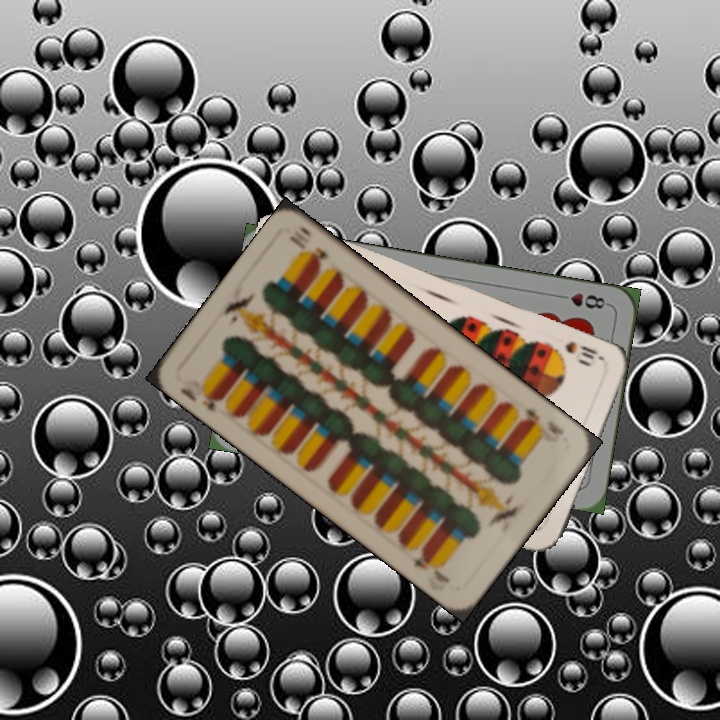E10: (518, 404, 567, 438), (176, 383, 226, 415)
H8: (553, 289, 612, 312)
S10: (561, 337, 600, 362)
